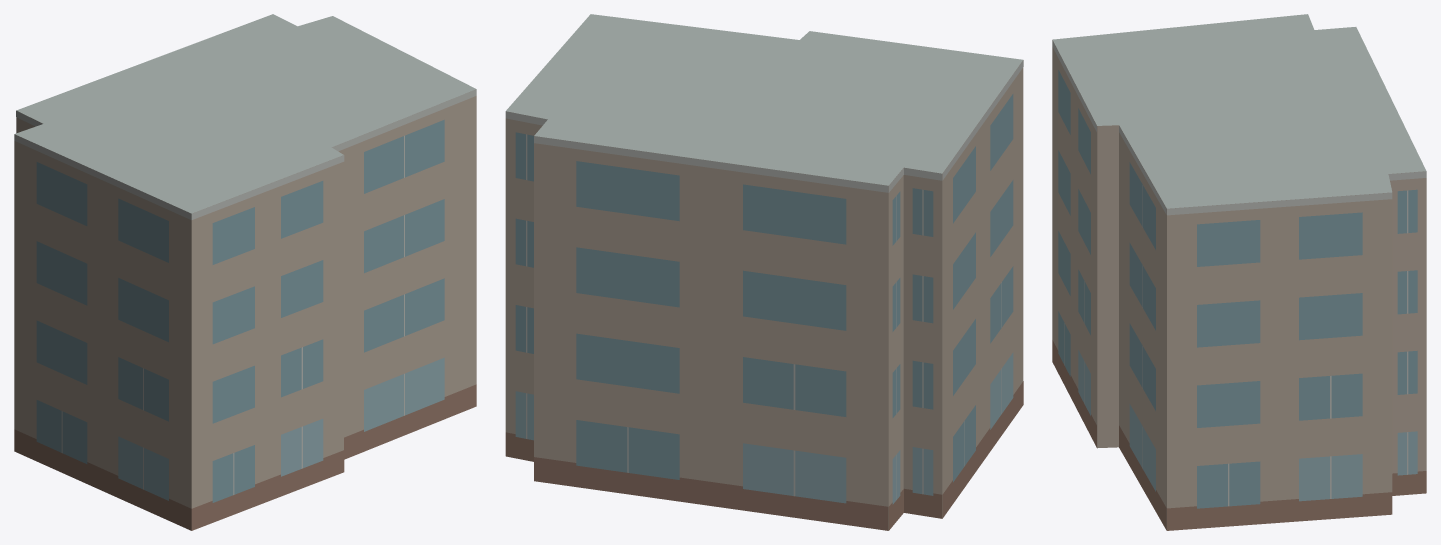
Rendered from survey-upis-32616754.glb.
3 renders of one model, left to right at view 1: azimuth 30°, elevation 25°; view 2: azimuth 150°, elevation 25°; view 3: azimuth 270°, elevation 25°, orthographic. The views are drawn at different scales.
Visible parts, largest first — view 1: survey-upis-32616754.tmp; view 2: survey-upis-32616754.tmp; view 3: survey-upis-32616754.tmp.
Part boxes in pixels (bbox=[...]): survey-upis-32616754.tmp: bbox=[14, 14, 476, 530]; survey-upis-32616754.tmp: bbox=[505, 14, 1023, 530]; survey-upis-32616754.tmp: bbox=[1052, 14, 1426, 530].
Size of the model in its own units: 15.17 by 11.7 by 12.33.
